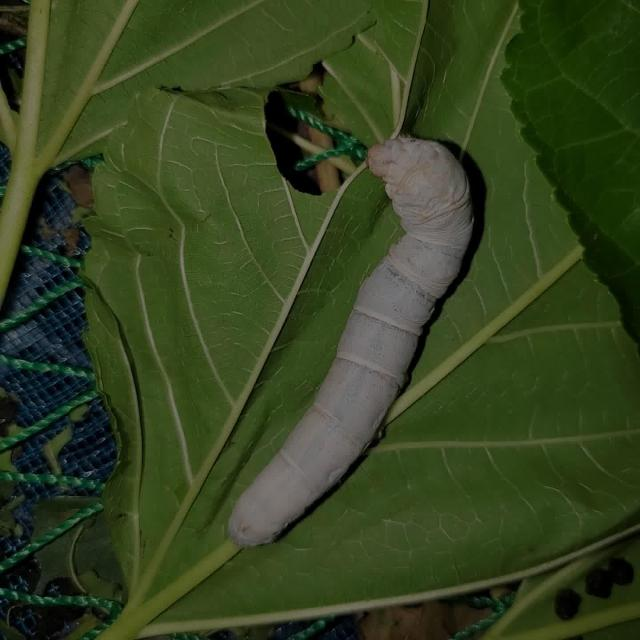Healthy: (208, 85, 530, 570)
